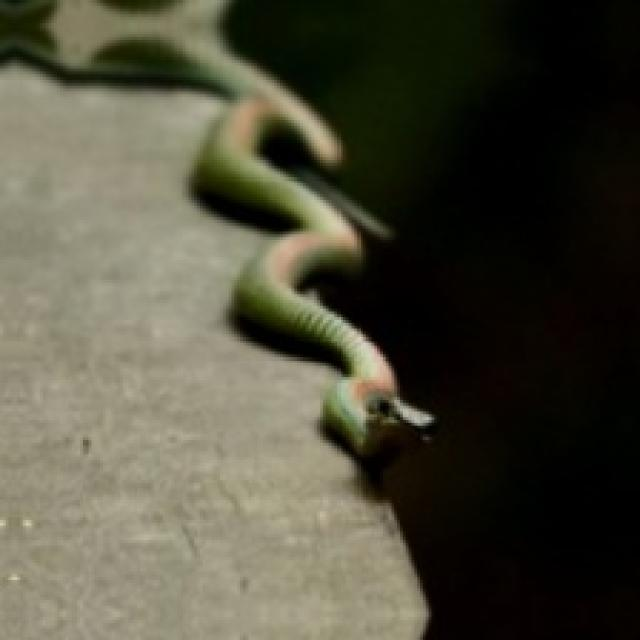paradise tree snake: (0, 0, 431, 454)
